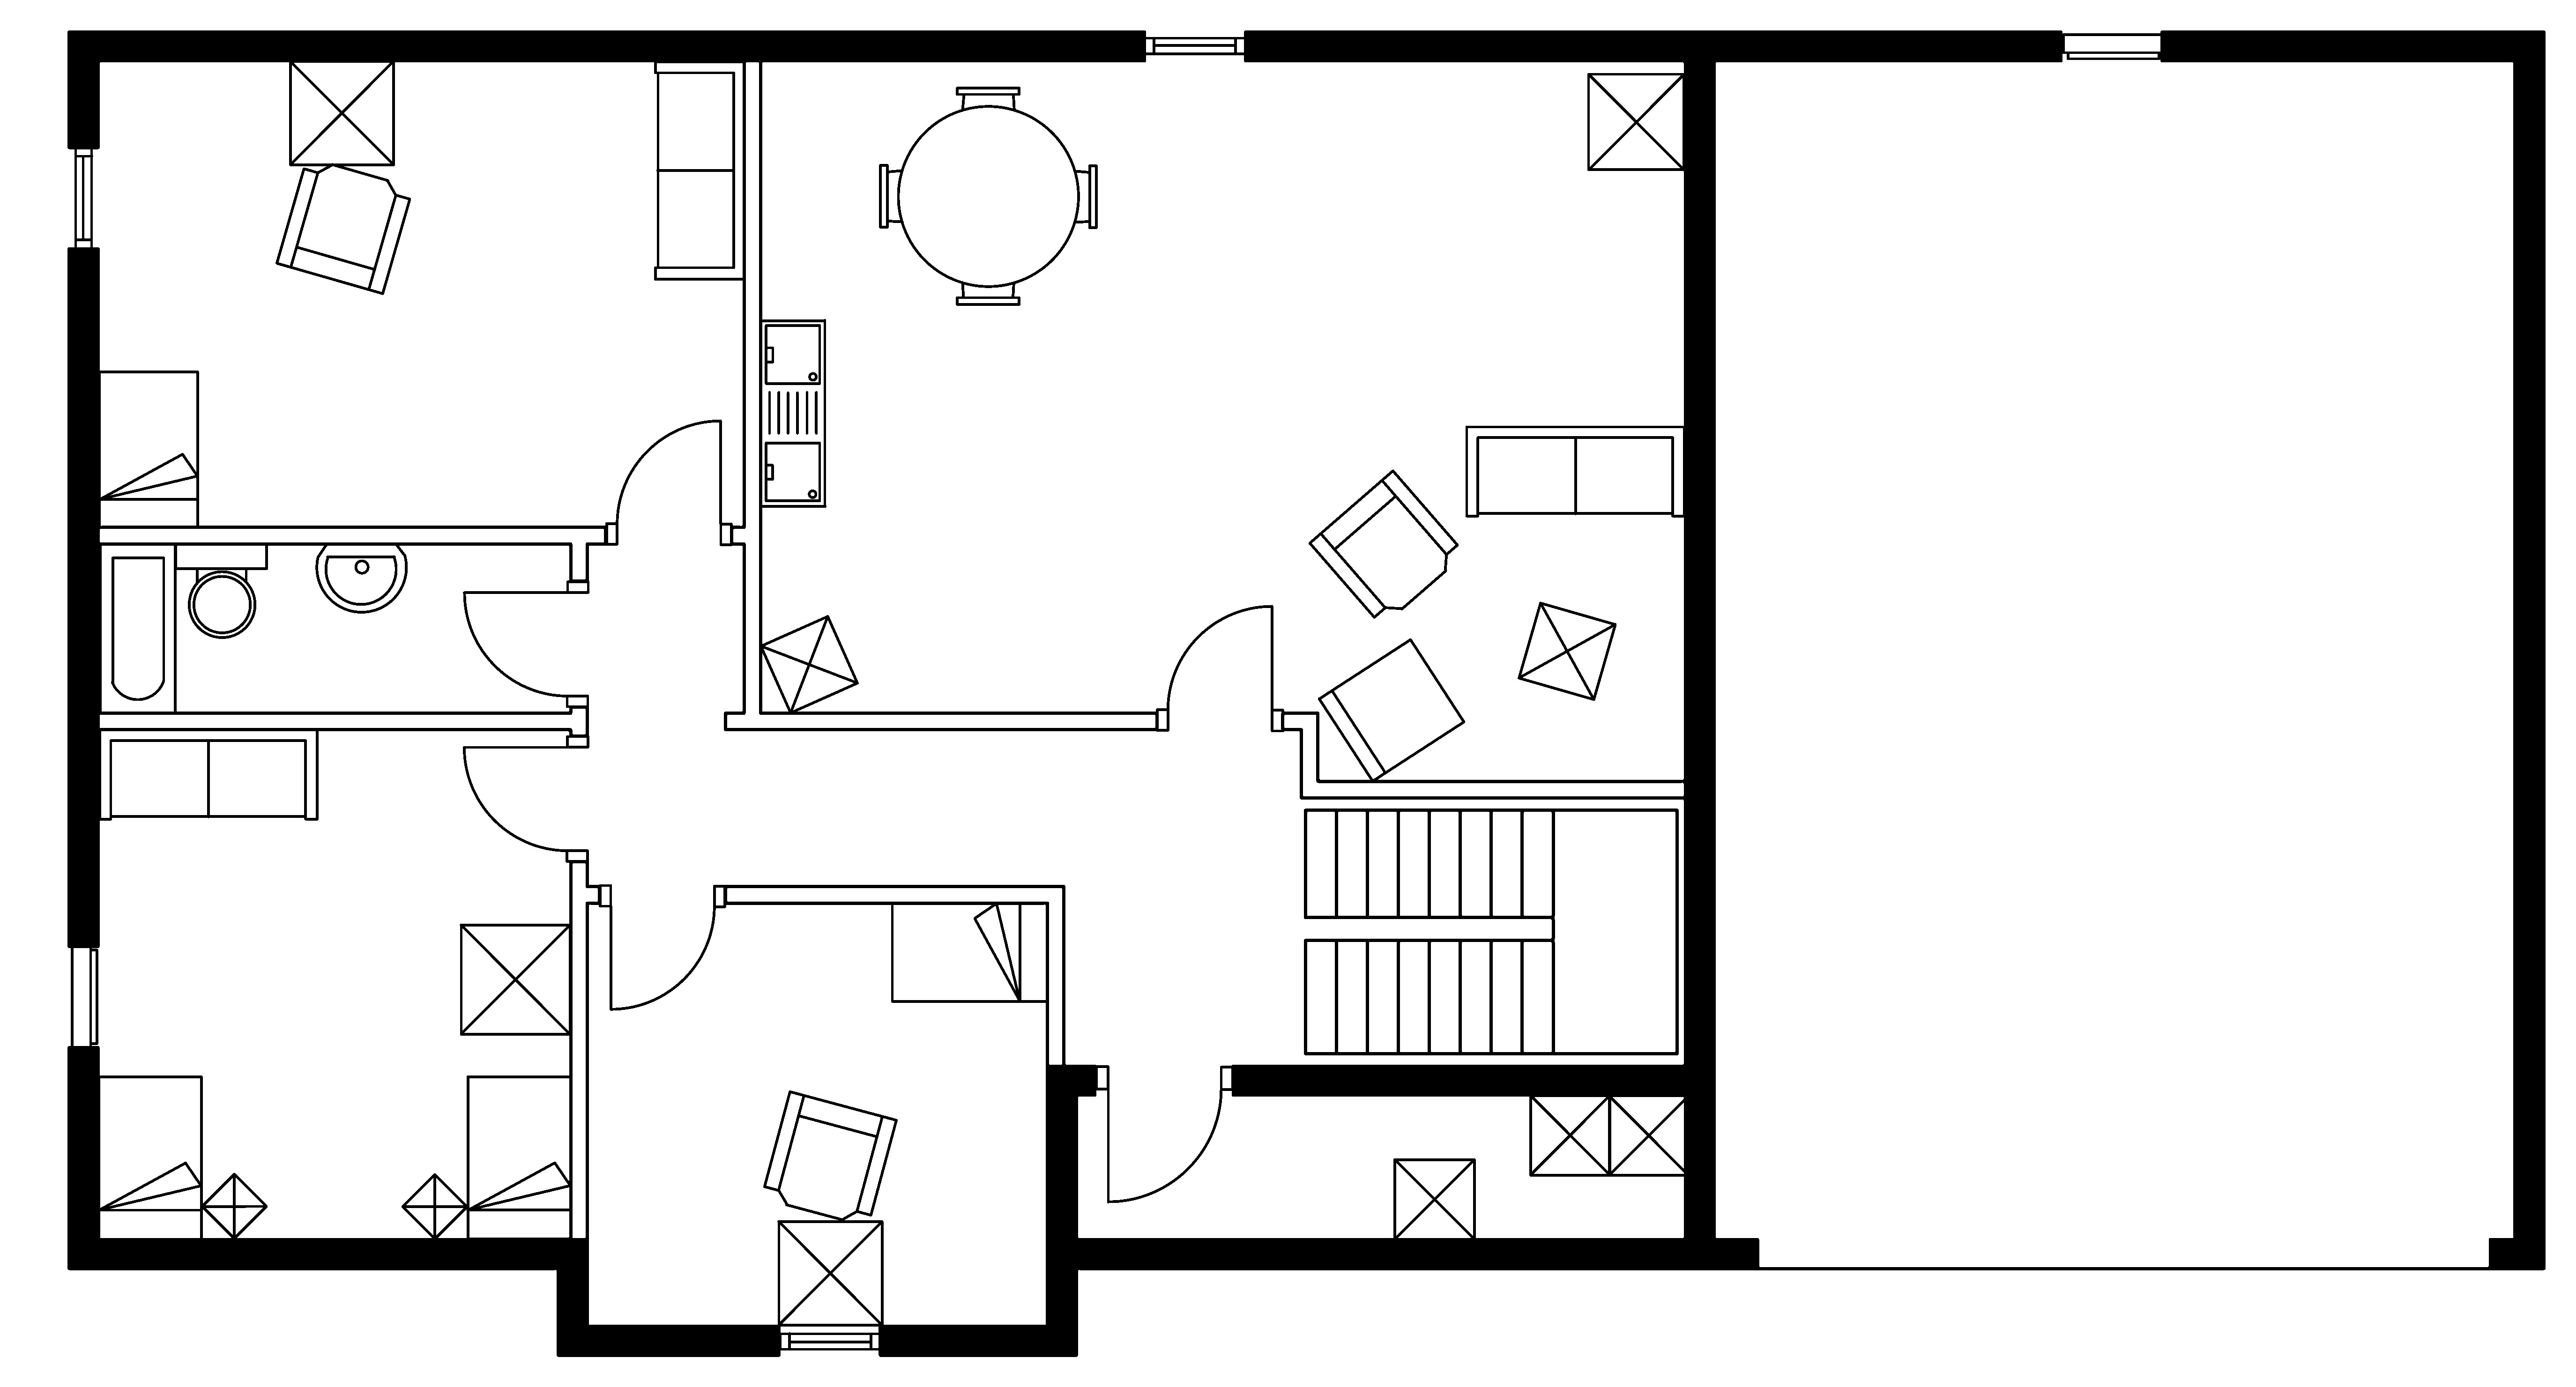armchair: (1307, 468, 1459, 618), (273, 162, 412, 296), (762, 1090, 899, 1221)
bed: (96, 1074, 203, 1240), (465, 1074, 572, 1240), (97, 369, 200, 530), (890, 900, 1049, 1003)
coffee_table: (458, 922, 572, 1035), (287, 58, 395, 166), (776, 1220, 883, 1327), (1517, 600, 1618, 702), (758, 613, 859, 714), (1585, 72, 1686, 171), (1527, 1093, 1613, 1177), (1392, 1156, 1476, 1240), (1607, 1093, 1691, 1177), (400, 1172, 470, 1240), (200, 1172, 268, 1240)
large_sink: (173, 541, 268, 639)
large_sofa: (1464, 424, 1686, 518), (653, 60, 746, 282), (97, 728, 319, 820)
round_table: (878, 85, 1098, 306)
small_sink: (316, 541, 407, 613)
small_sofa: (1317, 637, 1466, 782)
tub: (97, 541, 178, 714)
twin_sink: (758, 318, 827, 509)
